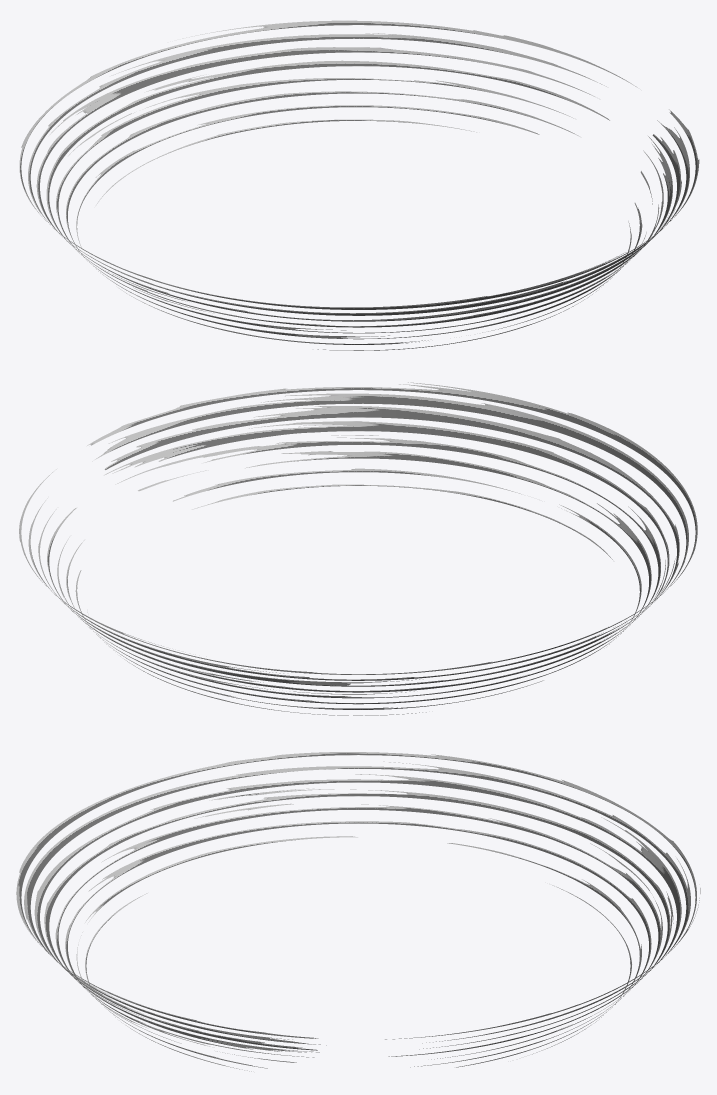
Rendered from yuanhuan.FBX.
3 renders of one model, top to bottom at view 1: azimuth 30°, elevation 25°; view 2: azimuth 150°, elevation 25°; view 3: azimuth 270°, elevation 25°, orthographic.
Parts seen in each view (by area): view 1: Plane001; view 2: Plane001; view 3: Plane001.
Boxes of the visible parts, x1=… form: Plane001: x1=19, y1=20, x2=699, y2=350; Plane001: x1=19, y1=382, x2=697, y2=715; Plane001: x1=16, y1=752, x2=700, y2=1071.
Bounding box in the file's own units: 1.39 × 0.1699 × 1.39.
